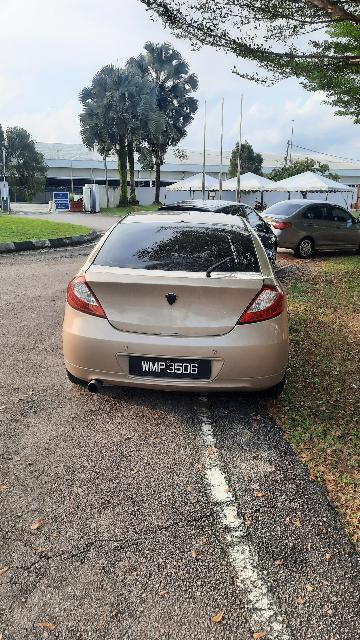License_Plate: (126, 353, 217, 385)
car: (55, 205, 291, 403), (257, 196, 360, 258)
